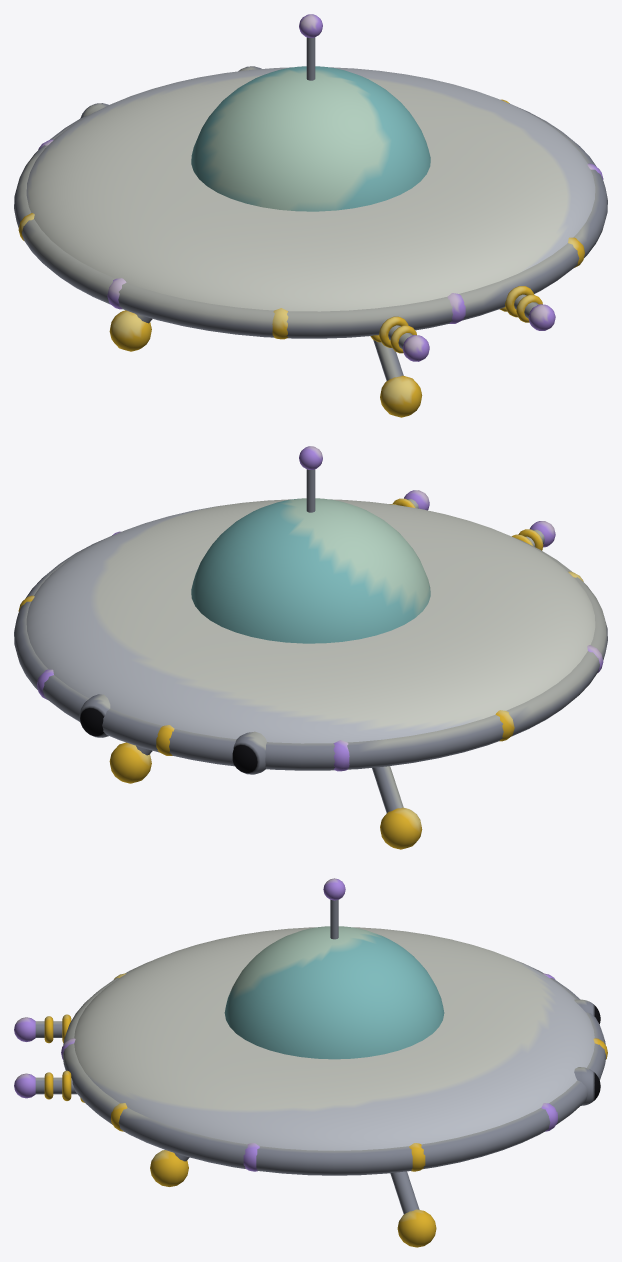
Rendered from atomic-saucer-starfighter-1.obj.
3 renders of one model, top to bottom at view 1: azimuth 30°, elevation 25°; view 2: azimuth 150°, elevation 25°; view 3: azimuth 270°, elevation 25°, orthographic. The views are drawn at different scales.
Parts seen in each view (by area): view 1: starfighter; view 2: starfighter; view 3: starfighter.
Part boxes in pixels (bbox=[...]): starfighter: bbox=[14, 14, 607, 417]; starfighter: bbox=[14, 446, 607, 849]; starfighter: bbox=[14, 878, 607, 1247].
Size of the model in its own units: 195 by 121 by 213.
